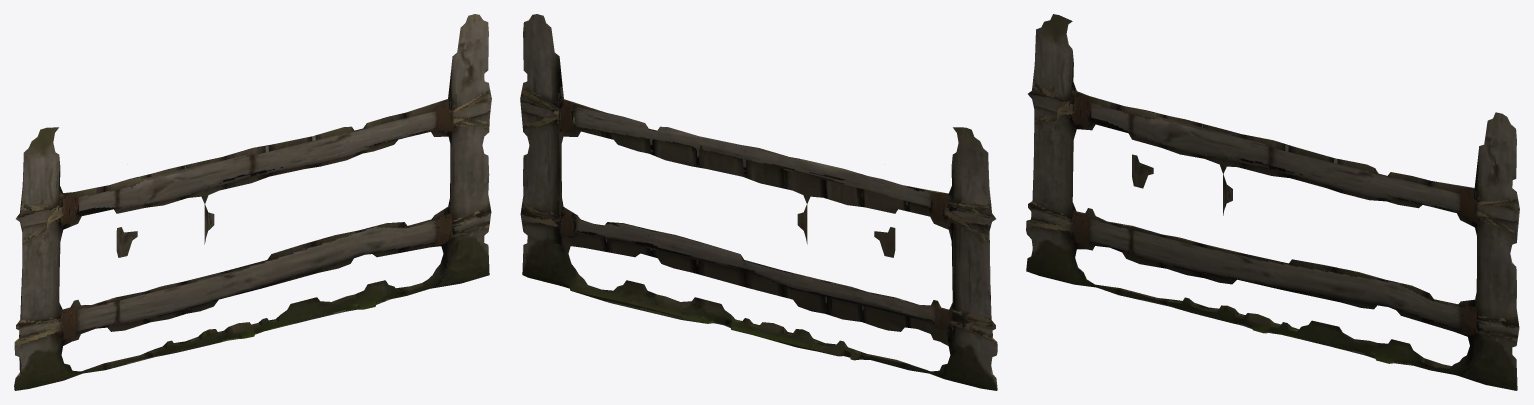
Rendered from goblin_palisade_a_lod.glb.
3 views of the same model, side by side, from view 1: azimuth 30°, elevation 25°; view 2: azimuth 150°, elevation 25°; view 3: azimuth 330°, elevation 25° (orthographic). The views are drawn at different scales.
Parts seen in each view (by area): view 1: goblin_palisade_a; view 2: goblin_palisade_a; view 3: goblin_palisade_a.
Part boxes in pixels (<box>): goblin_palisade_a: <box>14,14,491,390</box>; goblin_palisade_a: <box>520,14,997,390</box>; goblin_palisade_a: <box>1026,14,1519,390</box>.
Size of the model in its own units: 4.61 by 2.46 by 0.1906.
Materials: 1 (1 with a texture image).
